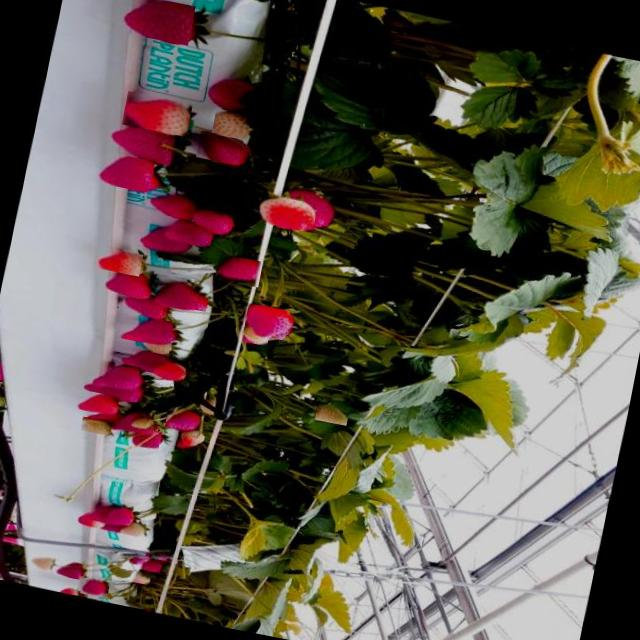ripe: (110, 0, 195, 45), (105, 122, 176, 166), (92, 151, 154, 193), (282, 186, 334, 226), (117, 312, 174, 348), (204, 76, 256, 114), (154, 278, 210, 312), (143, 188, 197, 222), (83, 374, 144, 404), (157, 218, 214, 249), (90, 359, 140, 394), (243, 304, 290, 341), (103, 268, 153, 302), (185, 205, 235, 238), (197, 131, 244, 166), (215, 254, 263, 288), (136, 227, 190, 257), (118, 343, 168, 375), (73, 389, 120, 417), (165, 406, 203, 434), (125, 426, 162, 452), (121, 296, 161, 319), (90, 499, 122, 525), (100, 504, 133, 527), (79, 578, 110, 598), (53, 560, 83, 580), (136, 562, 161, 574), (149, 552, 168, 562)
unripe: (122, 91, 194, 138), (254, 193, 318, 233), (93, 246, 143, 277), (211, 108, 252, 140), (234, 324, 271, 347), (315, 403, 350, 426), (115, 520, 148, 542), (80, 417, 112, 436), (142, 336, 172, 356), (29, 554, 52, 574), (130, 570, 152, 586), (126, 414, 148, 429)
